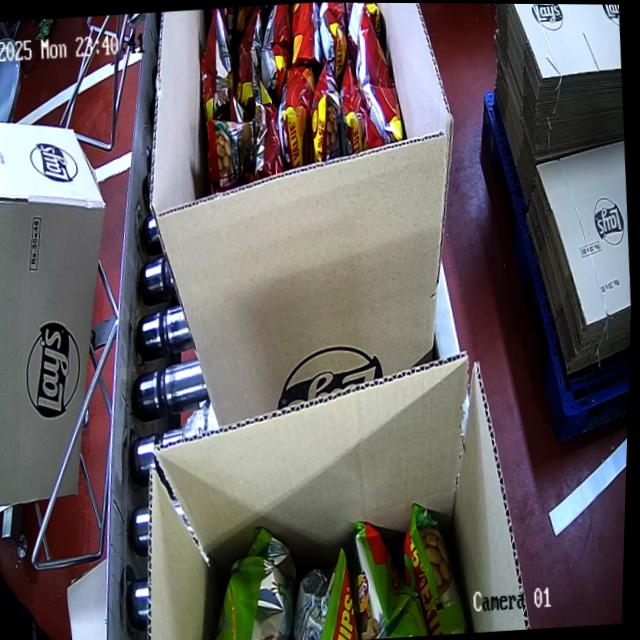MASALA: (186, 1, 396, 195)
YOGURT_HERB: (194, 491, 470, 640)
